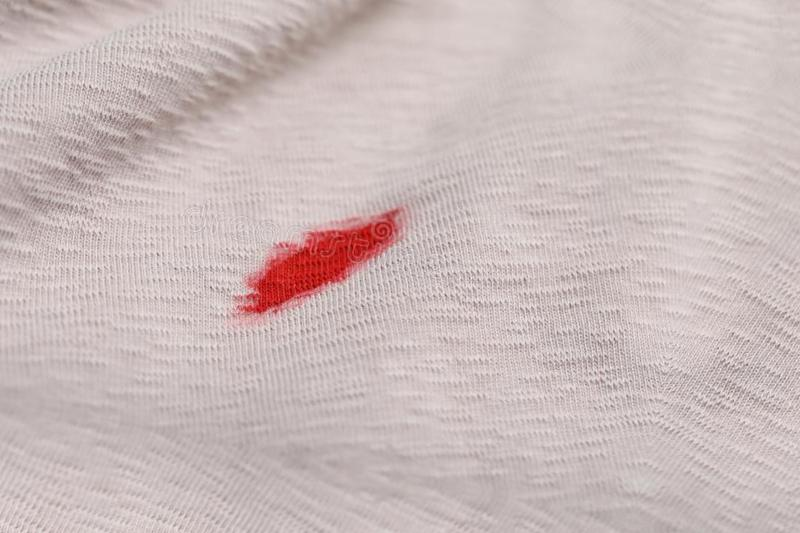stain: (237, 205, 407, 321)
